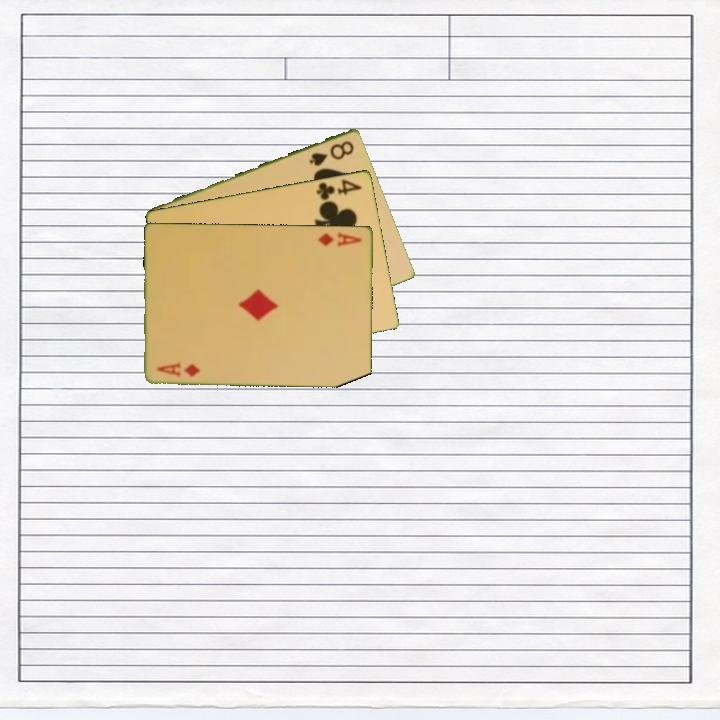4c: (313, 175, 365, 203)
8s: (306, 137, 357, 169)
Ad: (314, 228, 365, 249), (154, 358, 203, 379)
